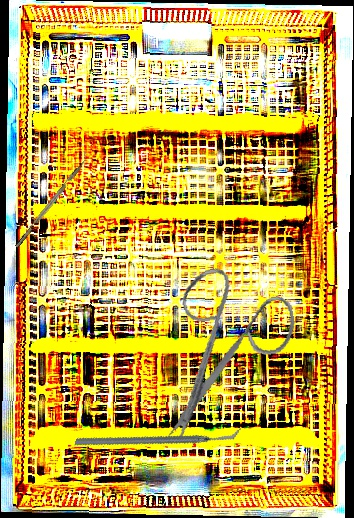Chopper: (73, 372, 242, 502), (10, 150, 92, 249)
Iris Scissors: (138, 255, 314, 447)
